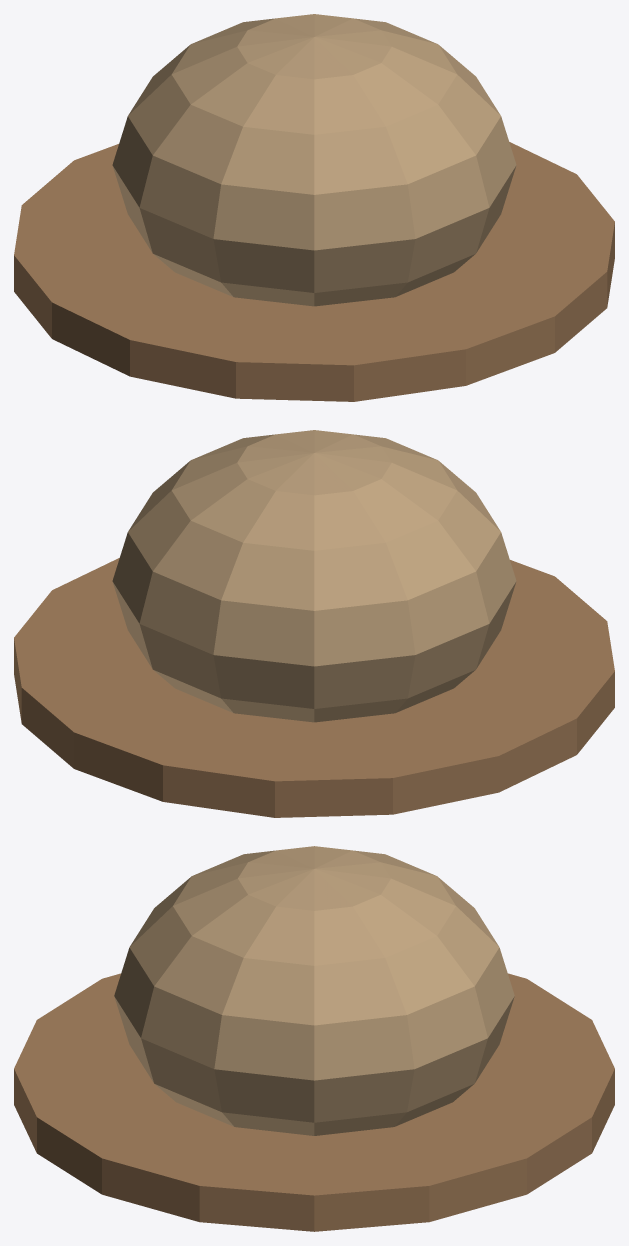
The model's file is palm_seed.glb.
3 renders of one model, top to bottom at view 1: azimuth 30°, elevation 25°; view 2: azimuth 150°, elevation 25°; view 3: azimuth 270°, elevation 25°, orthographic.
Parts seen in each view (by area): view 1: PalmSeed, PalmSeed_soil; view 2: PalmSeed, PalmSeed_soil; view 3: PalmSeed, PalmSeed_soil.
Part boxes in pixels (x1=…): PalmSeed: x1=112, y1=14, x2=516, y2=306; PalmSeed_soil: x1=14, y1=142, x2=614, y2=401; PalmSeed: x1=112, y1=430, x2=516, y2=722; PalmSeed_soil: x1=14, y1=558, x2=614, y2=817; PalmSeed: x1=114, y1=846, x2=514, y2=1135; PalmSeed_soil: x1=14, y1=973, x2=614, y2=1231.
Bounding box in the file's own units: 0.3 × 0.14 × 0.3.
